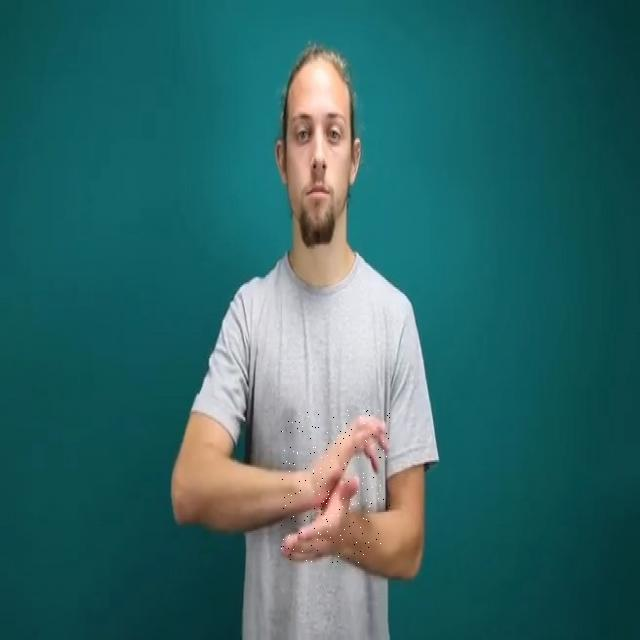cheese: (280, 410, 390, 564)
